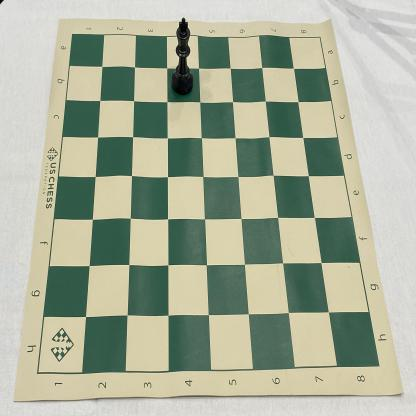black-king: (171, 17, 194, 96)
